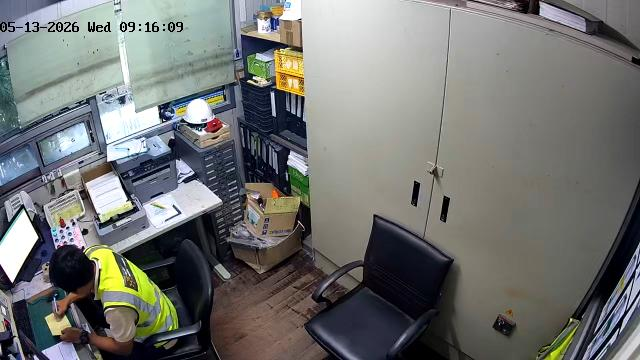Head: (50, 245, 94, 296)
People: (50, 245, 180, 359)
